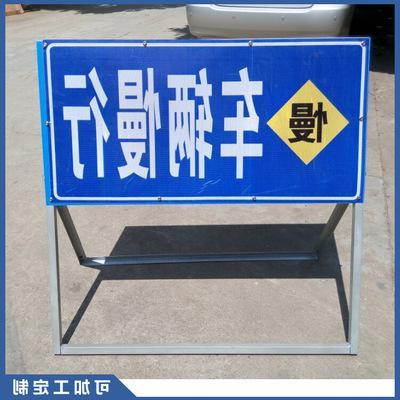sign: (45, 41, 366, 201)
